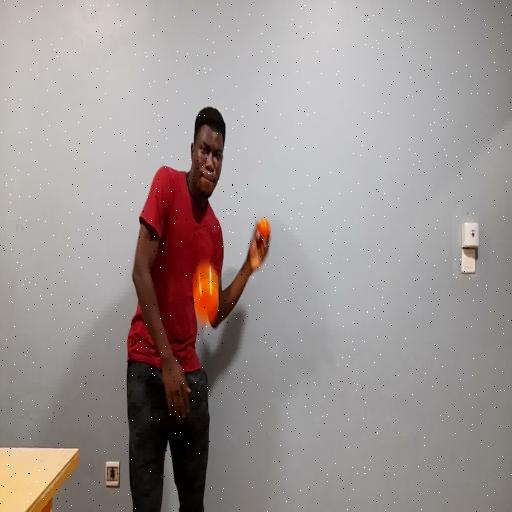plastic-ball: (184, 252, 228, 332)
